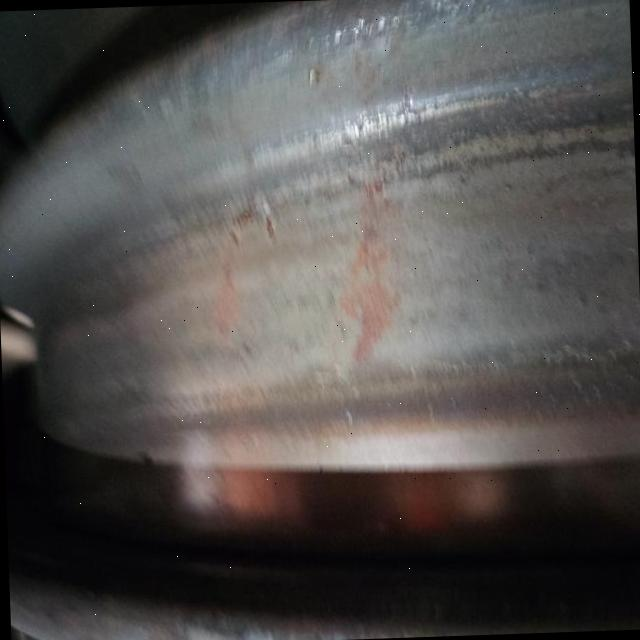Contact_Fatigue_Cracks: (397, 72, 551, 130)
